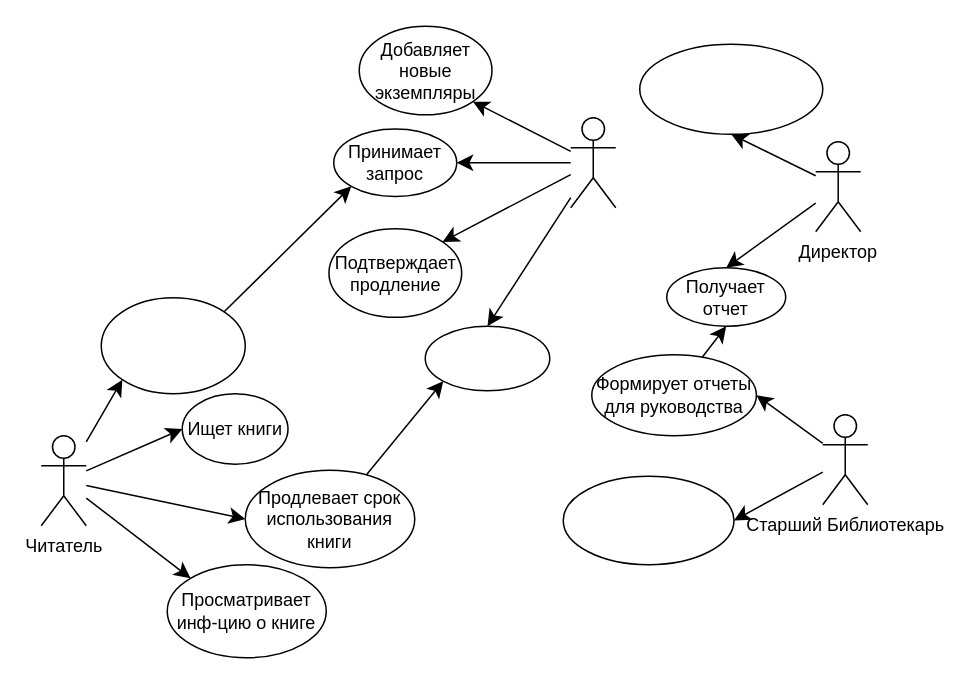
Some shapes in this 971 by 684 pixel diagram are drawn without their labels. Here are the shapes that lost their labels. From the top down, the centre of each, then its label:
(x=730, y=88): Назначает старших бибилиотекарей
(x=592, y=162): Библиотекарь
(x=172, y=345): Оформляет запрос на выдачу
(x=487, y=358): Выдает книгу
(x=648, y=520): Утверждает действия библиотекарей
